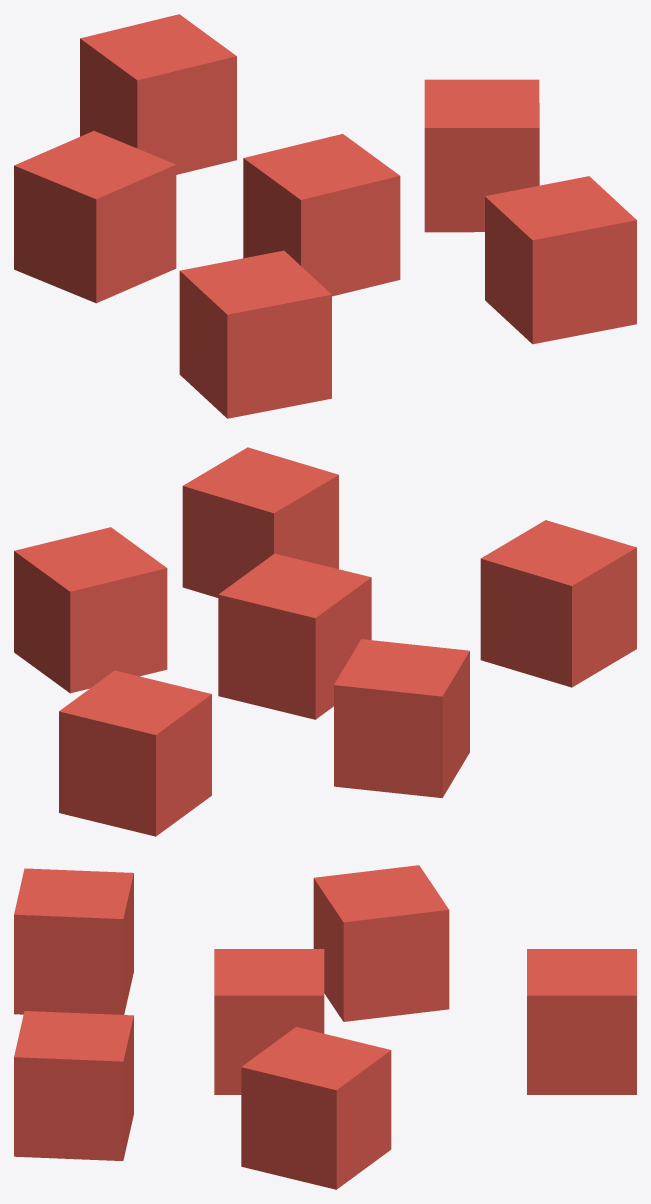
File: raw_meat_C-BwyZXzzu.glb
3 renders of one model, top to bottom at view 1: azimuth 30°, elevation 25°; view 2: azimuth 150°, elevation 25°; view 3: azimuth 270°, elevation 25°, orthographic. The views are drawn at different scales.
Visible parts, largest first — view 1: Cube.003, Cube.004, Cube.005, Cube.001, Cube.002, Cube.006; view 2: Cube.004, Cube.002, Cube.006, Cube.001, Cube.003, Cube.005; view 3: Cube.006, Cube.003, Cube.005, Cube.004, Cube.002, Cube.001.
Boxes of the visible parts, x1,y1,x2,y2 form: Cube.003: (14, 131, 176, 303); Cube.004: (179, 250, 331, 418); Cube.005: (485, 176, 636, 344); Cube.001: (243, 134, 400, 296); Cube.002: (80, 14, 236, 174); Cube.006: (424, 79, 539, 232); Cube.004: (480, 520, 636, 687); Cube.002: (59, 670, 211, 836); Cube.006: (14, 527, 167, 693); Cube.001: (218, 553, 371, 719); Cube.003: (334, 639, 469, 798); Cube.005: (182, 447, 338, 597); Cube.006: (241, 1027, 391, 1189); Cube.003: (313, 865, 449, 1021); Cube.005: (14, 1011, 133, 1160); Cube.004: (14, 868, 133, 1014); Cube.002: (527, 949, 636, 1094); Cube.001: (214, 949, 324, 1094).
Bounding box in the file's own units: 0.108 × 0.0223 × 0.1263.
